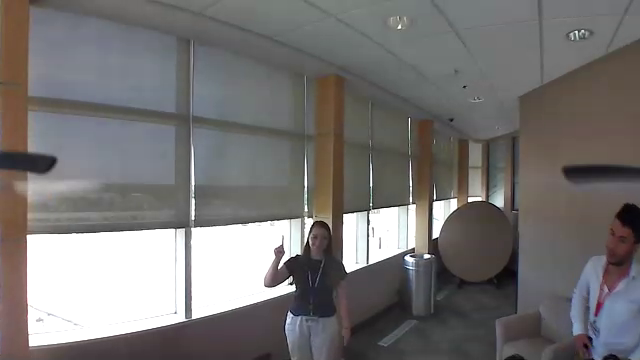up: (271, 234, 287, 261)
